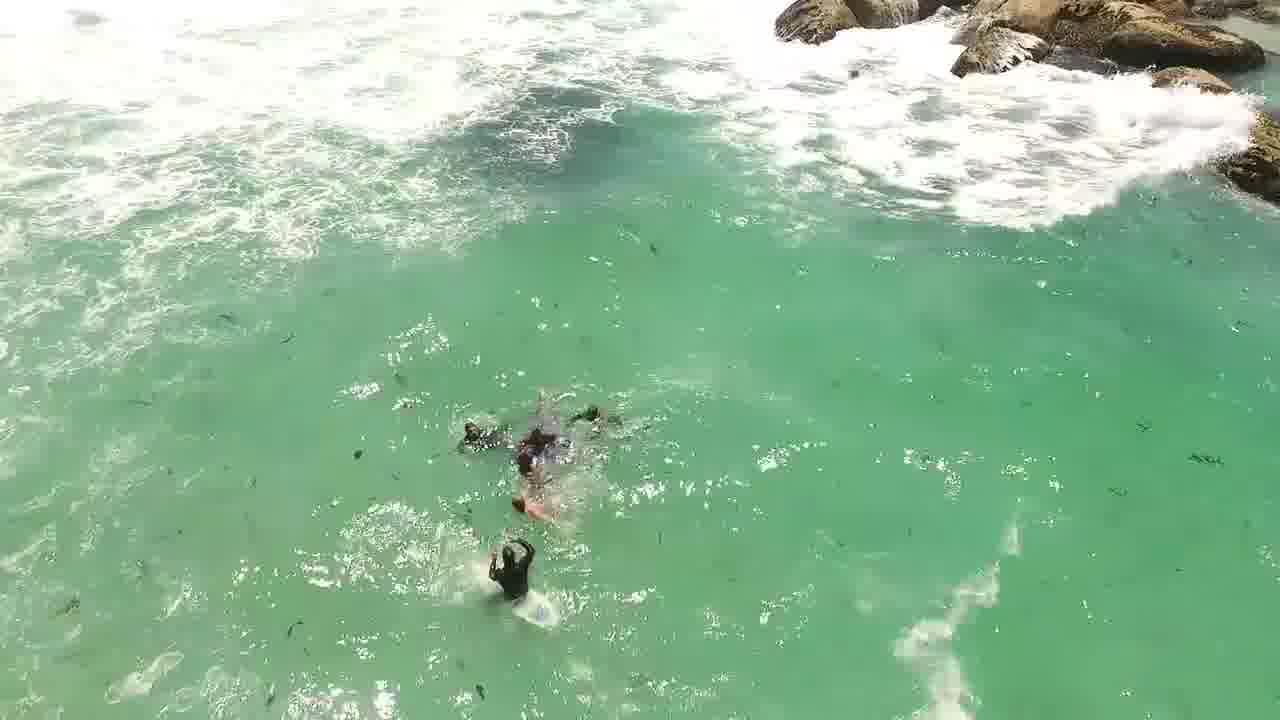swimmer: (472, 533, 546, 600), (438, 408, 515, 458), (494, 484, 566, 533), (512, 410, 573, 457), (565, 392, 619, 441), (503, 442, 554, 478)
